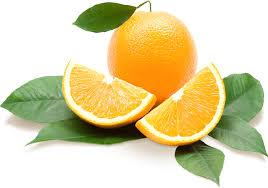orange: (138, 63, 247, 161), (111, 14, 208, 93), (58, 61, 160, 126)
